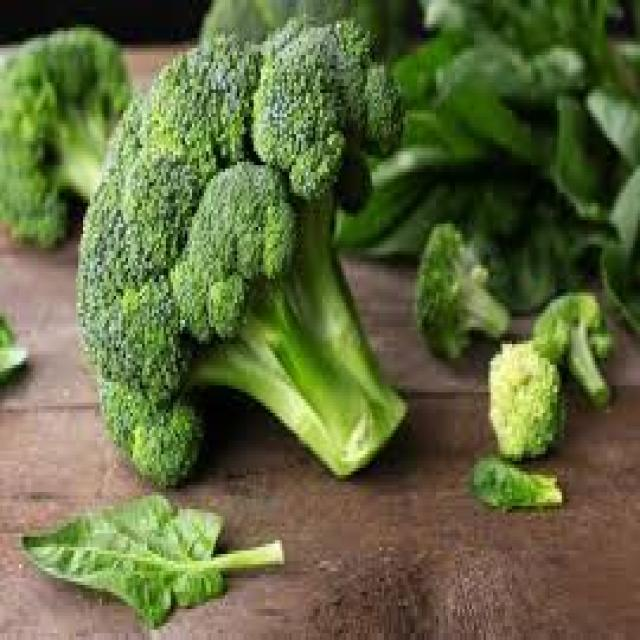broccoli: (48, 11, 452, 490), (0, 17, 149, 254), (417, 217, 517, 361), (532, 272, 620, 428), (480, 338, 575, 460)
